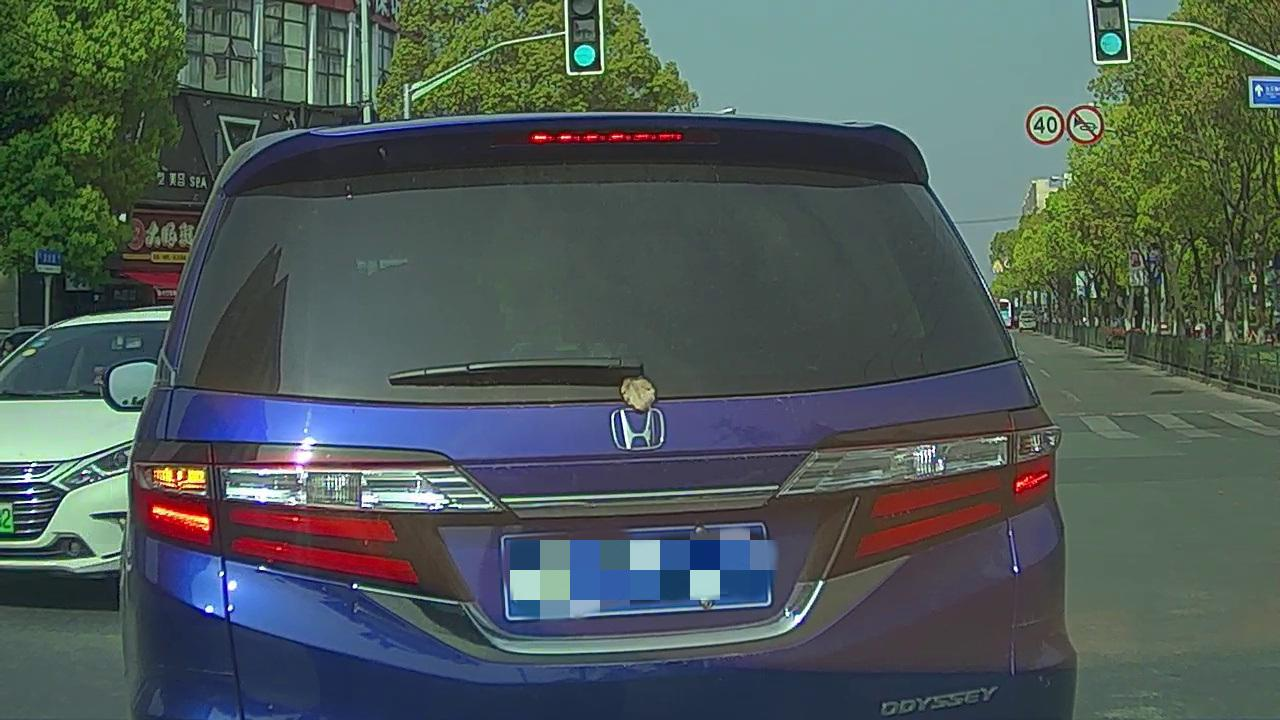traffic_light: (568, 1, 604, 75), (1091, 3, 1131, 63)
